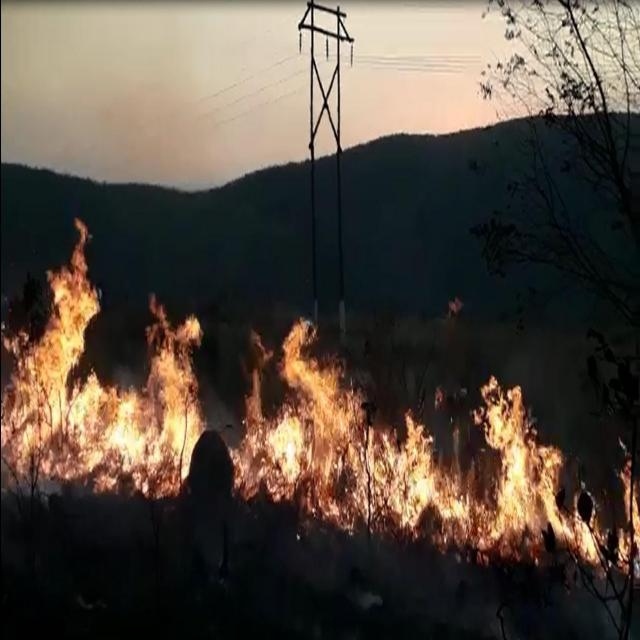Fire: (242, 325, 638, 571), (2, 215, 204, 500)
